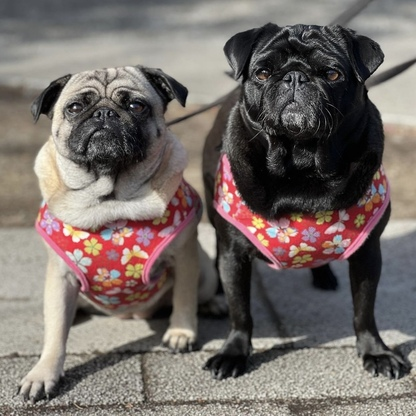Pug: (199, 15, 416, 383), (11, 57, 219, 406)
